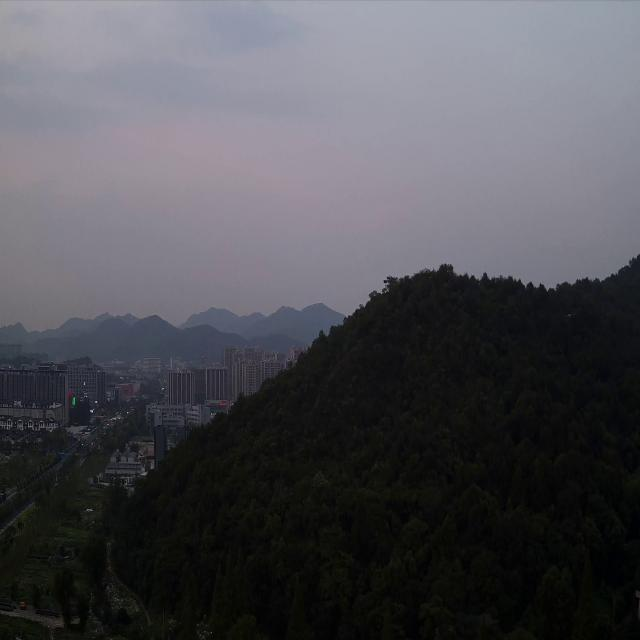UAV: (566, 311, 575, 322)
